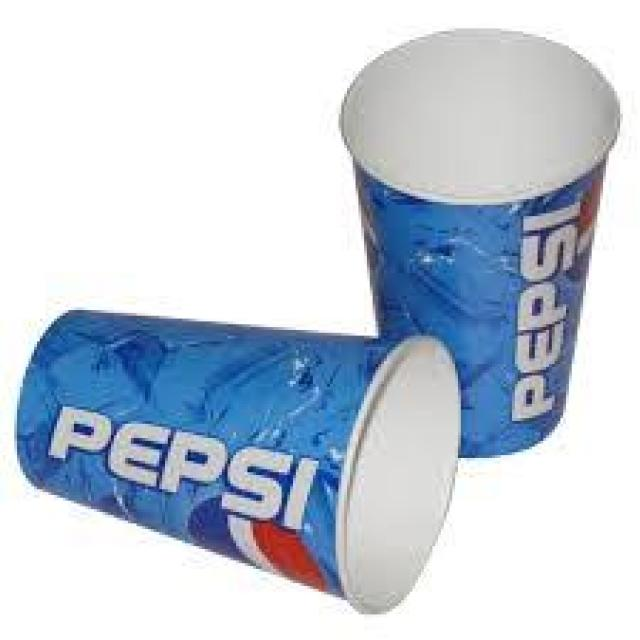PaperCardboard: (17, 308, 460, 614), (342, 26, 620, 451)
